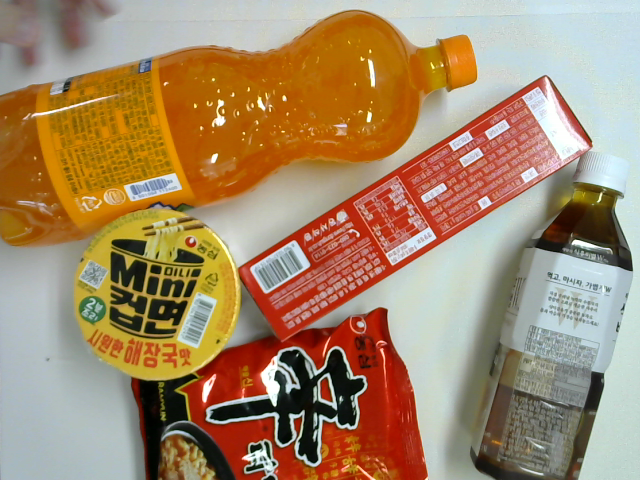Hejangmini: (73, 207, 241, 381)
Hwanta_Orange_1.5L: (1, 9, 477, 249)
Post-meal_recipe_W_tea_500ml: (468, 148, 635, 480)
Ritz_Cracker: (237, 74, 594, 347)
Sinramen: (130, 308, 430, 480)
